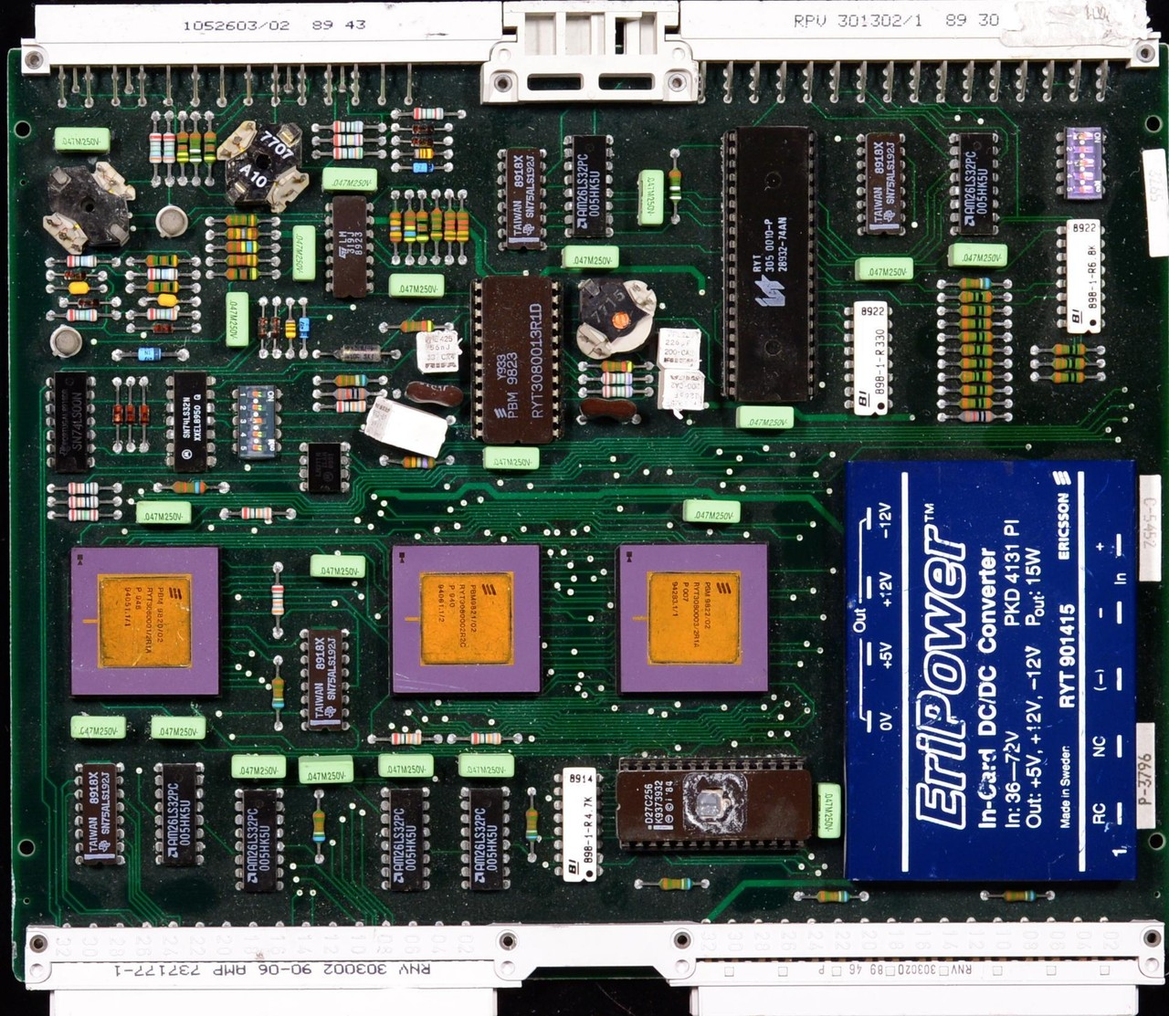Capacitor: (44, 281, 110, 295), (133, 296, 203, 308)
Connector: (844, 299, 895, 421), (1060, 217, 1105, 336)
IC: (720, 129, 822, 405), (616, 756, 816, 851), (468, 275, 560, 446), (940, 125, 1008, 252), (157, 369, 224, 471), (856, 128, 915, 235), (41, 369, 95, 478), (75, 761, 127, 869), (152, 760, 203, 869), (496, 149, 551, 249), (300, 627, 350, 733), (564, 134, 612, 242), (234, 789, 283, 893), (461, 788, 510, 891), (381, 788, 429, 891), (294, 440, 347, 492)
Resistor: (153, 477, 230, 496), (576, 357, 657, 373), (44, 254, 122, 270), (379, 455, 456, 471), (145, 117, 163, 184), (576, 371, 655, 386), (1030, 342, 1105, 357), (128, 255, 201, 270), (443, 188, 457, 266), (939, 289, 1011, 304), (1030, 370, 1107, 384), (939, 316, 1014, 330), (670, 145, 683, 225), (208, 214, 282, 228), (208, 268, 282, 282), (575, 386, 653, 399), (190, 114, 203, 191), (429, 190, 442, 267), (937, 371, 1014, 384), (312, 121, 387, 134), (378, 319, 453, 332), (46, 483, 121, 496), (221, 507, 296, 520), (938, 398, 1012, 411), (314, 789, 326, 869), (122, 282, 202, 294), (312, 135, 385, 148), (272, 655, 284, 733), (164, 114, 178, 180), (209, 242, 286, 254), (312, 149, 388, 161), (47, 508, 123, 520), (272, 563, 284, 638), (368, 732, 443, 744), (209, 254, 278, 267), (390, 189, 402, 263), (49, 310, 123, 322), (938, 277, 1011, 289), (458, 188, 469, 267), (124, 308, 202, 319), (1031, 358, 1108, 369), (937, 385, 1014, 396), (46, 496, 123, 507), (417, 192, 428, 268), (126, 270, 202, 281), (205, 115, 216, 189), (939, 345, 1013, 356), (392, 108, 464, 119), (208, 228, 280, 239), (405, 189, 415, 268), (313, 388, 392, 398), (938, 333, 1016, 343), (528, 786, 538, 863), (938, 306, 1014, 316), (314, 376, 383, 387), (395, 161, 453, 174), (939, 359, 1012, 369), (939, 412, 1011, 422), (298, 297, 309, 358), (286, 298, 297, 358), (449, 734, 520, 743), (637, 878, 708, 887), (801, 891, 870, 900), (315, 401, 386, 409), (181, 116, 188, 191), (395, 150, 453, 158)
